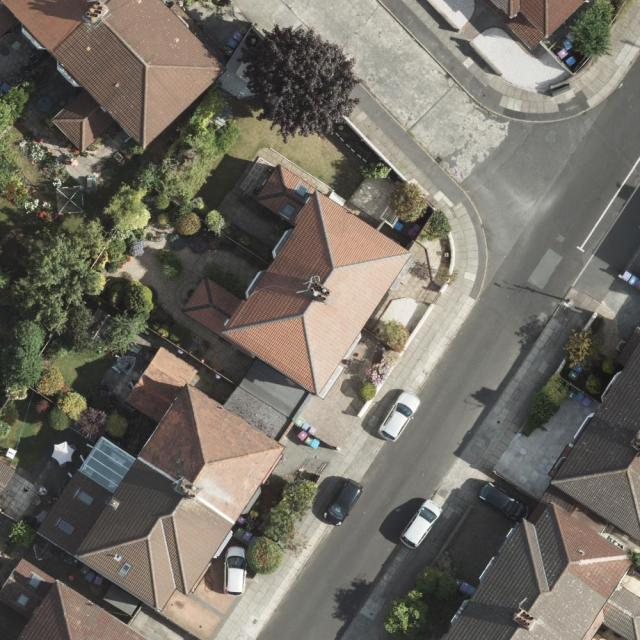roof: (36, 166, 413, 610), (443, 324, 640, 639), (0, 0, 231, 153), (0, 557, 152, 640), (477, 0, 590, 51)
skylight: (79, 433, 140, 493), (71, 486, 97, 508), (54, 514, 78, 536), (114, 556, 136, 579), (280, 201, 297, 220), (14, 591, 32, 608), (27, 573, 42, 591), (294, 183, 310, 198)
